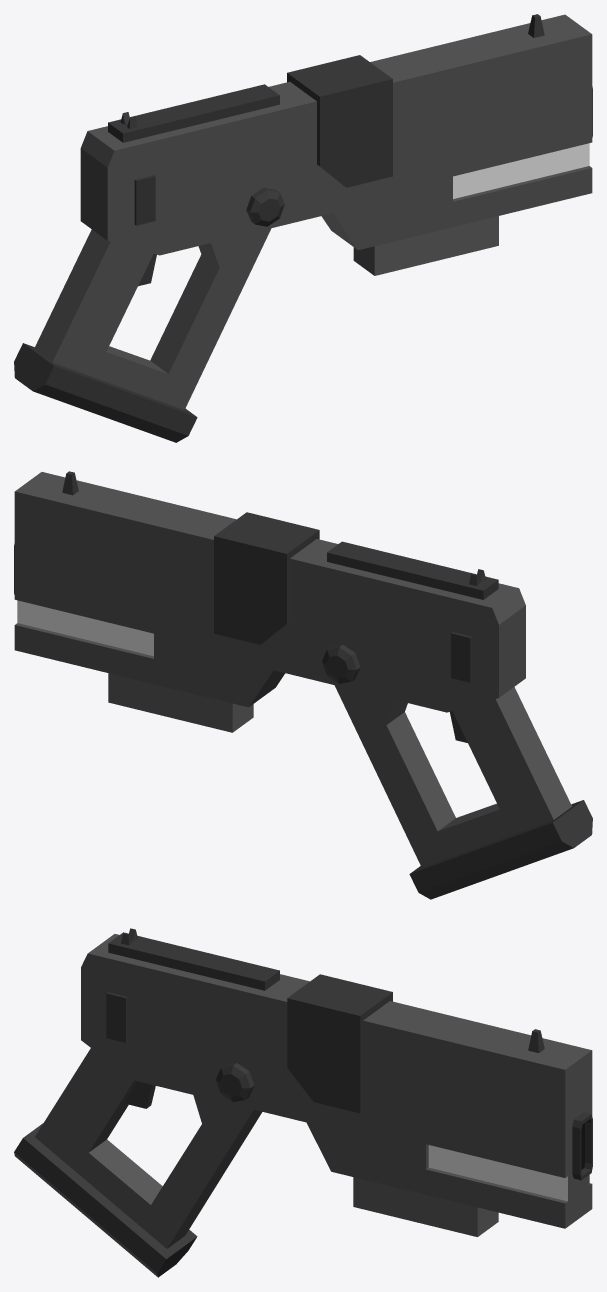
Rendered from Handgun_B_V1.FBX.
3 views of the same model, one above another, from view 1: azimuth 30°, elevation 25°; view 2: azimuth 150°, elevation 25°; view 3: azimuth 330°, elevation 25° (orthographic).
Parts seen in each view (by area): view 1: Handgun_B_V1, Magazine; view 2: Handgun_B_V1, Magazine; view 3: Handgun_B_V1, Magazine.
Part boxes in pixels (<box>): Handgun_B_V1: <box>14,14,592,442</box>; Magazine: <box>353,216,498,275</box>; Handgun_B_V1: <box>14,471,592,899</box>; Magazine: <box>108,673,253,732</box>; Handgun_B_V1: <box>14,928,592,1277</box>; Magazine: <box>353,1177,498,1236</box>.
Bounding box in the file's own units: 133 × 74.83 × 15.86.
